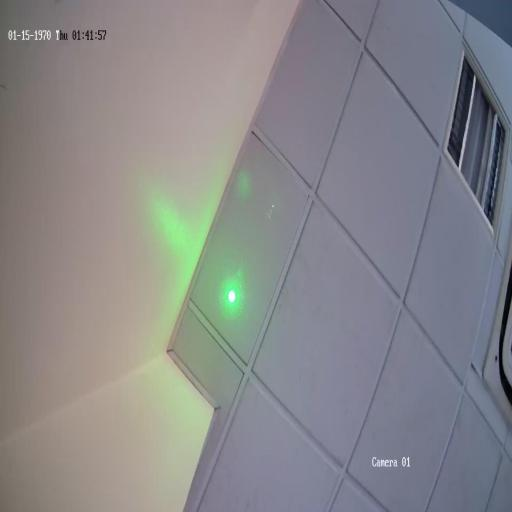laser: (218, 268, 243, 320)
